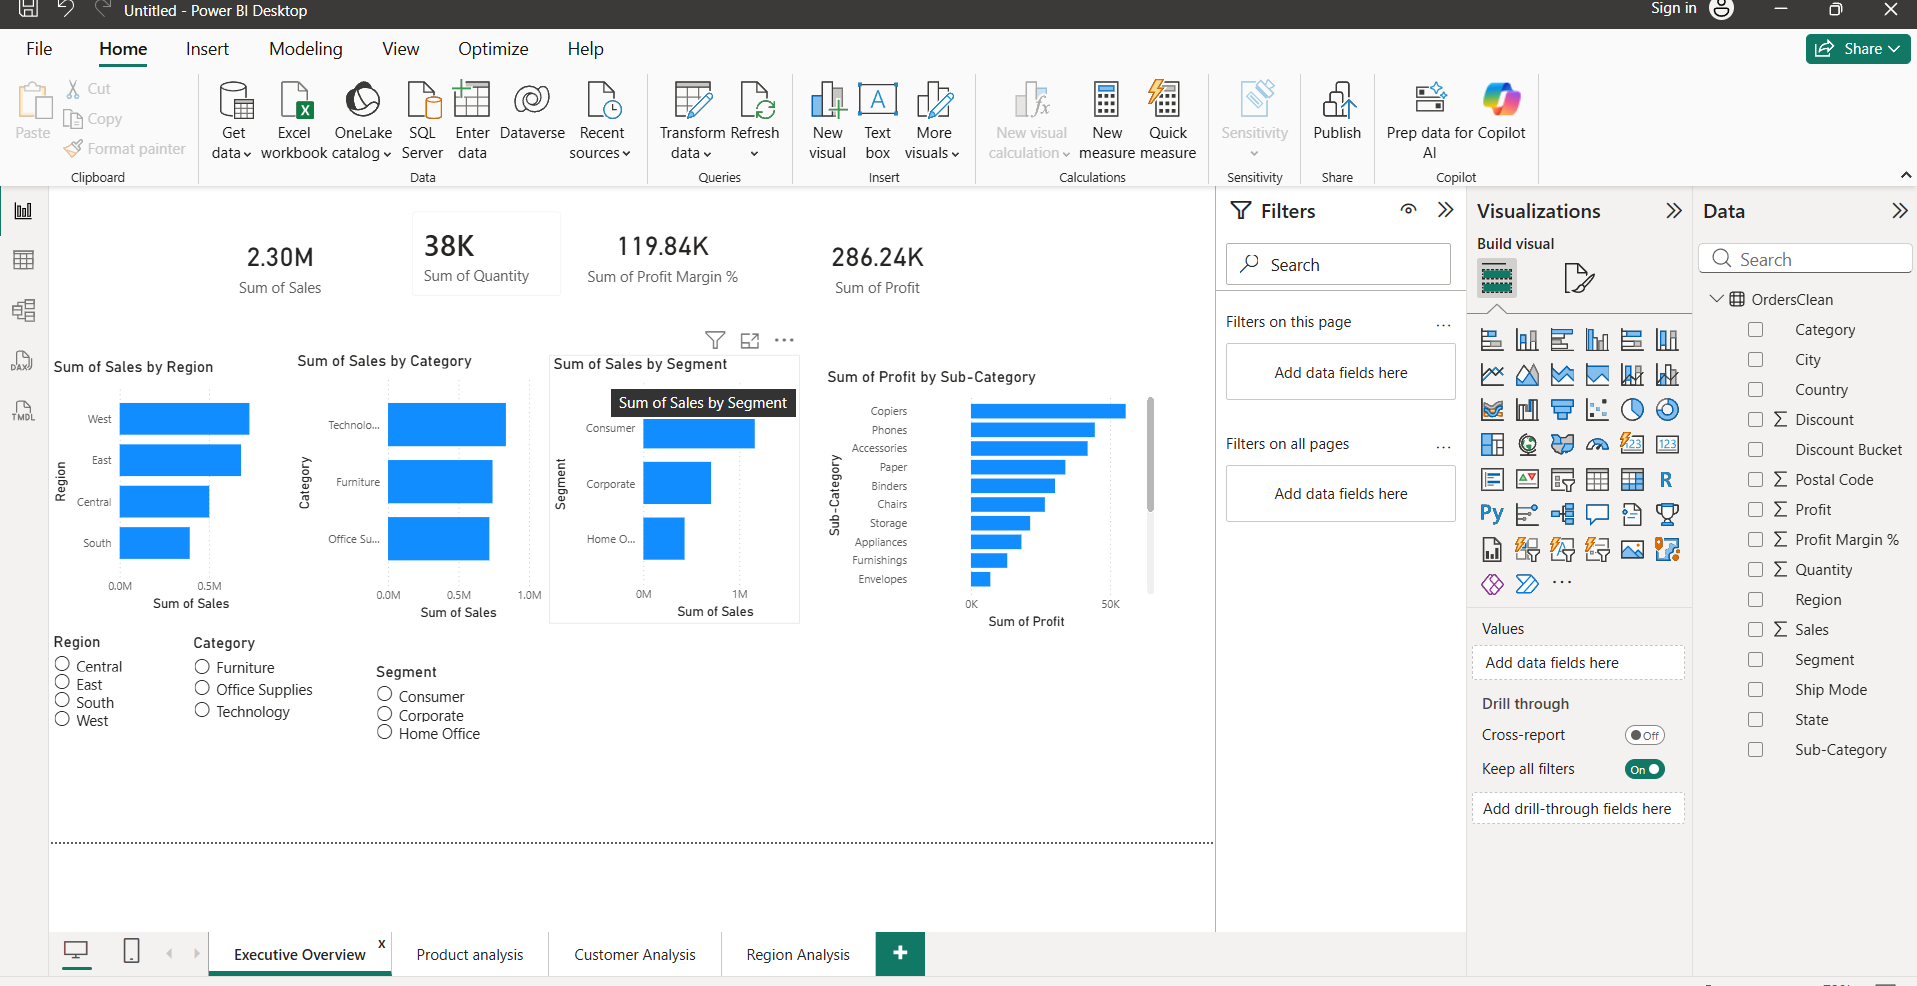

The page's visual inventory and layout, read from the dashboard file:
{"tool":"powerbi","page":{"name":"Executive Overview","canvas":[1280,720],"ordinal":0},"visuals":[{"type":"card","fields":{"Values":["Sum(OrdersClean.Sales)"]},"box":[167.4,0,199,145.5],"z":0},{"type":"card","fields":{"Values":["Sum(OrdersClean.Profit)"]},"box":[1055.2,0,200.3,140],"z":1000},{"type":"card","fields":{"Values":["Sum(OrdersClean.Profit Margin %)"]},"box":[738.3,0,211.3,140],"z":2000},{"type":"clusteredBarChart","fields":{"Category":["OrdersClean.Region"],"Y":["Sum(OrdersClean.Sales)"]},"box":[0,188,253.9,284],"z":3000},{"type":"clusteredBarChart","fields":{"Category":["OrdersClean.Category"],"Y":["Sum(OrdersClean.Sales)"]},"box":[271.7,145.5,278.6,300.5],"z":4000},{"type":"clusteredBarChart","fields":{"Category":["OrdersClean.Sub-Category"],"Y":["Sum(OrdersClean.Profit)"]},"box":[911.2,199,369.1,292.3],"z":5000},{"type":"clusteredBarChart","fields":{"Category":["OrdersClean.Segment"],"Y":["Sum(OrdersClean.Sales)"]},"box":[588.7,188,275.8,295],"z":6000},{"type":"card","fields":{"Values":["Sum(OrdersClean.Quantity)"]},"box":[433.6,5.5,231.9,140],"z":9000},{"type":"slicer","title":"Segment ","fields":{"Values":["OrdersClean.Segment"]},"box":[844,501.5,251.4,218.8],"z":10000},{"type":"slicer","title":"Category Slicer","fields":{"Values":["OrdersClean.Category"]},"box":[549.1,501.5,263.7,218.8],"z":10001},{"type":"slicer","title":"Region Slicer","fields":{"Values":["OrdersClean.Region"]},"box":[220.2,501.5,254.2,218.8],"z":10002}]}

Visuals, with their boxes on the page's 1280x720 design canvas (x1, y1, x2, y2). These are canvas units, not pixel positions in the 1917x986 screenshot, which may show the page scaled, cropped or inside an application window:
card - Sum(OrdersClean.Sales): (x1=167, y1=0, x2=366, y2=146)
card - Sum(OrdersClean.Profit): (x1=1055, y1=0, x2=1256, y2=140)
card - Sum(OrdersClean.Profit Margin %): (x1=738, y1=0, x2=950, y2=140)
clusteredBarChart - OrdersClean.Region x Sum(OrdersClean.Sales): (x1=0, y1=188, x2=254, y2=472)
clusteredBarChart - OrdersClean.Category x Sum(OrdersClean.Sales): (x1=272, y1=146, x2=550, y2=446)
clusteredBarChart - OrdersClean.Sub-Category x Sum(OrdersClean.Profit): (x1=911, y1=199, x2=1280, y2=491)
clusteredBarChart - OrdersClean.Segment x Sum(OrdersClean.Sales): (x1=589, y1=188, x2=864, y2=483)
card - Sum(OrdersClean.Quantity): (x1=434, y1=6, x2=666, y2=146)
"Segment " slicer: (x1=844, y1=502, x2=1095, y2=720)
"Category Slicer" slicer: (x1=549, y1=502, x2=813, y2=720)
"Region Slicer" slicer: (x1=220, y1=502, x2=474, y2=720)
